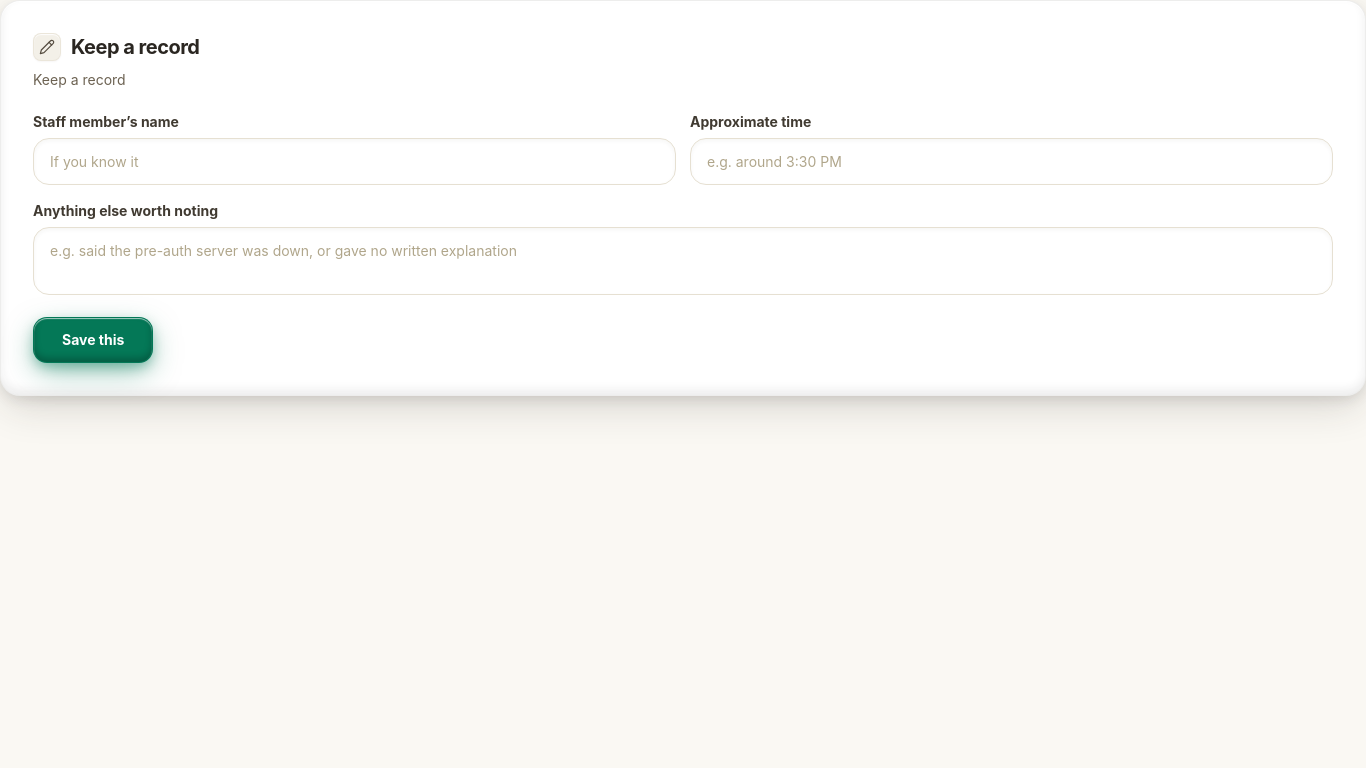
Scenario: EvidenceForm › clears the form and renders the updated evidence list after a successful save
Type "Billing clerk" into the field labelled "Staff member’s name" at coordinates (354, 161), box [33,138,676,185]
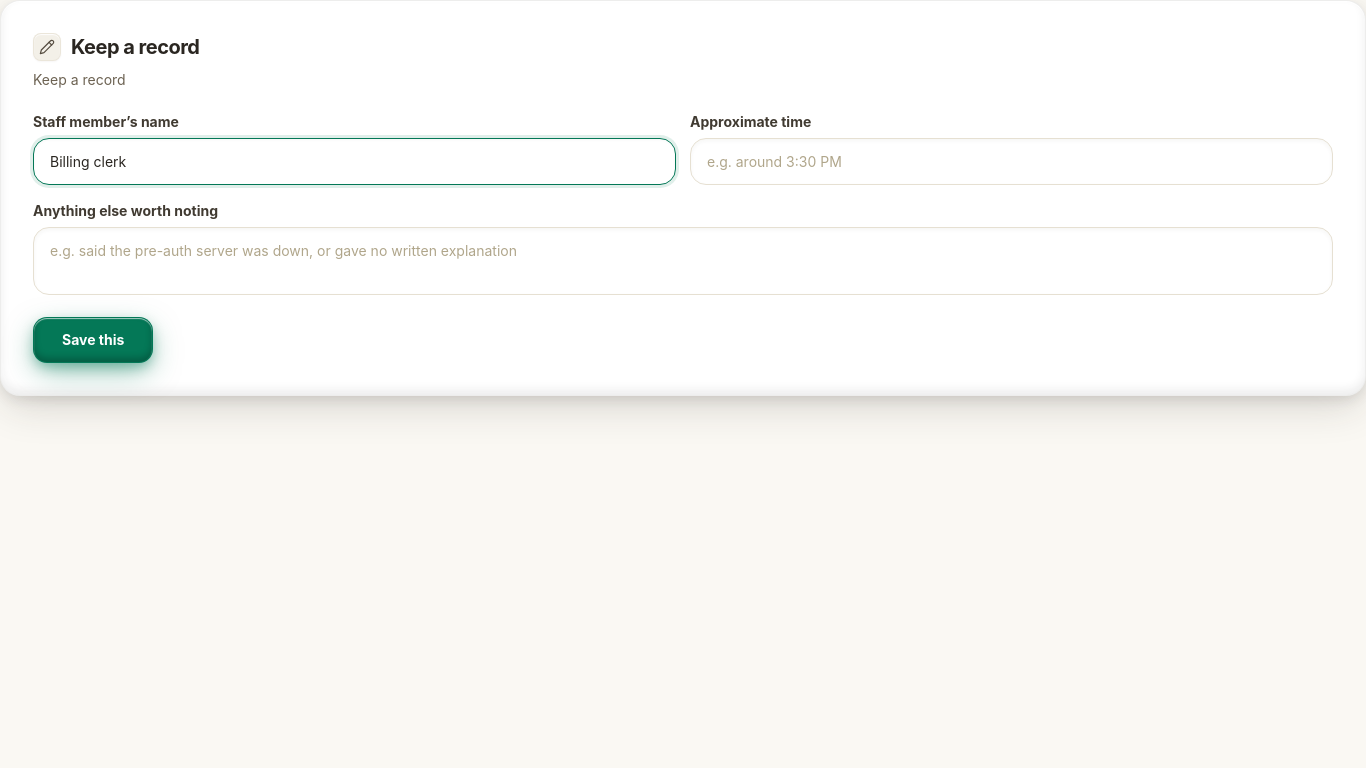
Type "Refused verbally" into the text box labelled "Anything else worth noting" at coordinates (683, 261), box [33,227,1333,295]
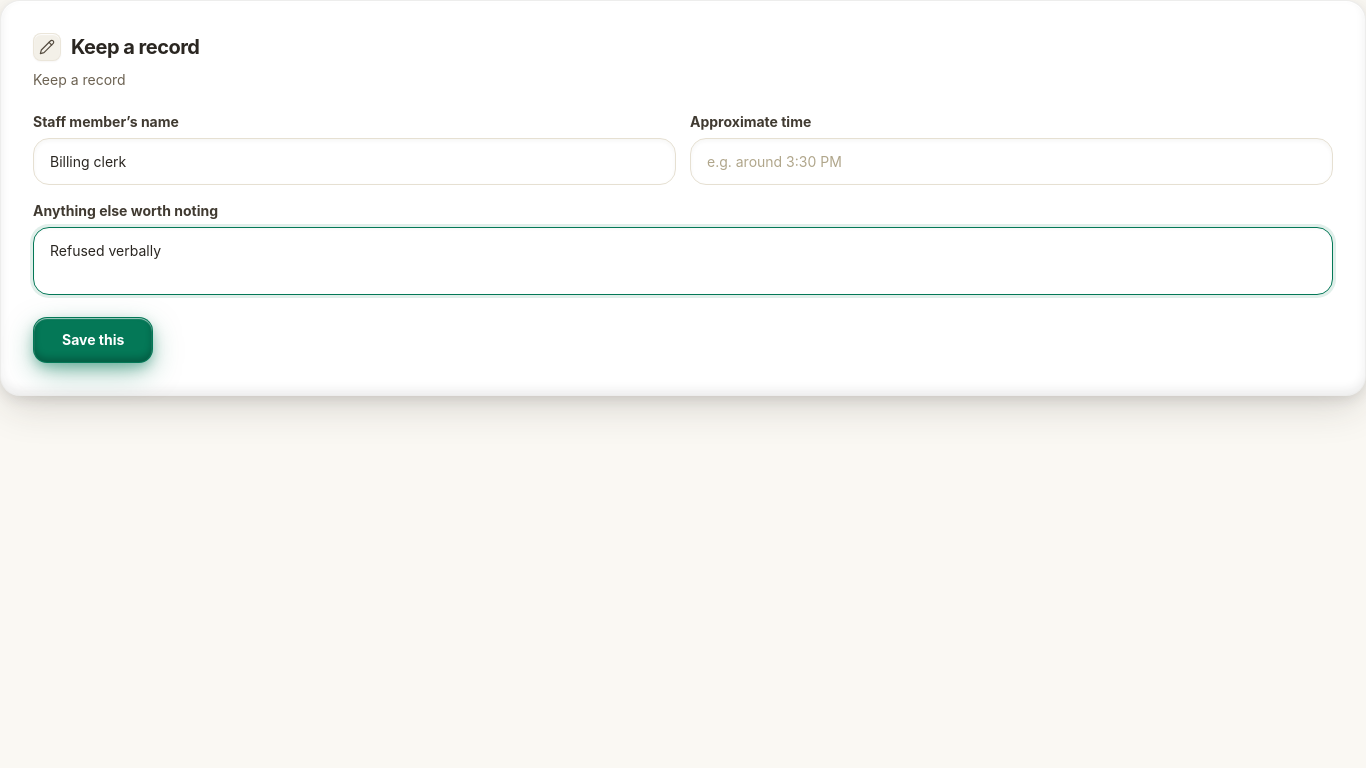
Click the button "Save this" at coordinates (93, 340), box [33,317,153,363]
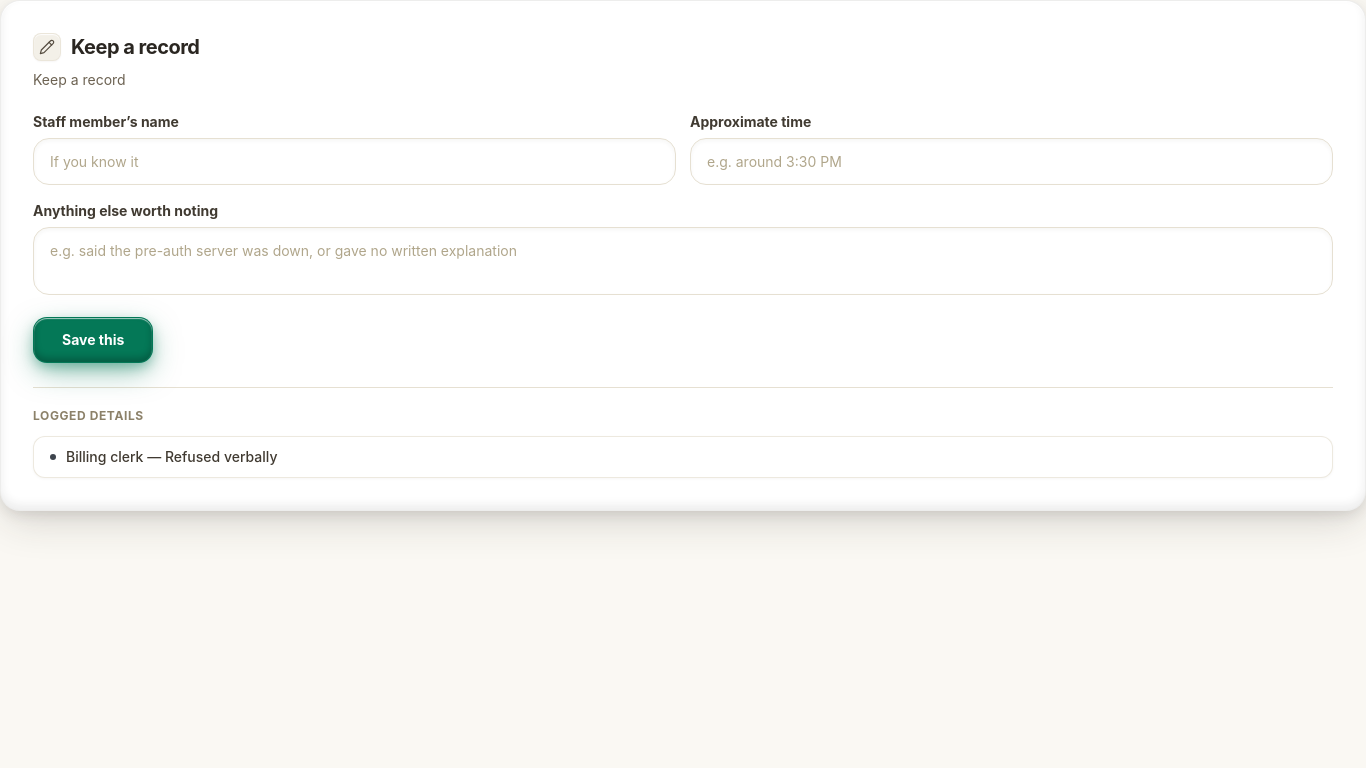
Expected: the field labelled "Staff member’s name" is empty, [33,138,676,185]
Expected: the text "Billing clerk — Refused verbally" is shown, [66,447,278,467]
